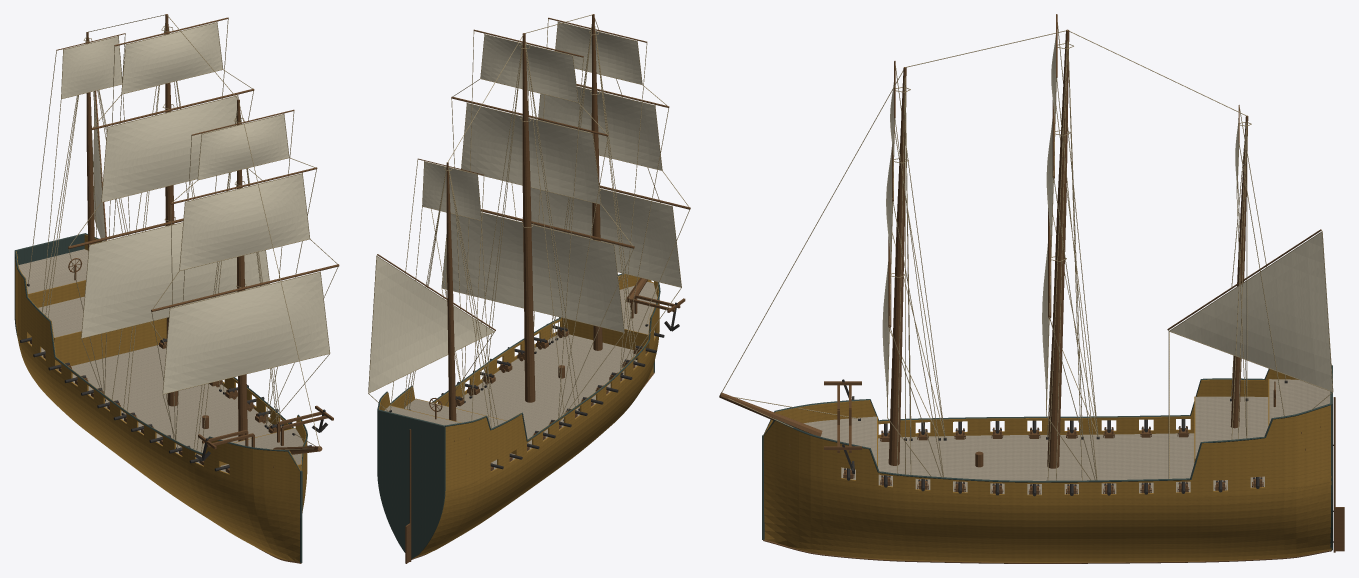
Rendered from ship.glb.
3 renders of one model, left to right at view 1: azimuth 30°, elevation 25°; view 2: azimuth 150°, elevation 25°; view 3: azimuth 270°, elevation 25°, orthographic. The views are drawn at different scales.
Visible parts, largest first — view 1: hull_shell_starboard, fore_square_00, main_square_00, main_deck, fore_square_01, main_square_01, main_square_02, fore_square_02, castle_bulkhead_1_1, mizzen_square_00, castle_deck_0, stern_closure (+12 smaller); view 2: hull_shell_starboard, main_square_00, main_square_01, main_deck, mizzen_lateen_01, stern_closure, fore_square_00, fore_square_01, main_square_02, fore_square_02, main, mizzen_square_00 (+17 smaller); view 3: hull_shell_port, main_deck, mizzen_lateen_01, hull_shell_starboard, main, fore, castle_deck_1, castle_deck_0, gunwale_port, mizzen, castle_deck_2, keel (+2 smaller).
Part boxes in pixels (left/top/right/bottom): hull_shell_starboard: left=15, top=251, right=300, bottom=561; fore_square_00: left=163, top=272, right=329, bottom=393; main_square_00: left=81, top=222, right=269, bottom=337; main_deck: left=29, top=342, right=272, bottom=472; fore_square_01: left=180, top=174, right=309, bottom=270; main_square_01: left=102, top=96, right=240, bottom=201; main_square_02: left=122, top=23, right=222, bottom=93; fore_square_02: left=198, top=114, right=288, bottom=179; castle_bulkhead_1_1: left=54, top=318, right=166, bottom=369; mizzen_square_00: left=61, top=37, right=122, bottom=98; castle_deck_0: left=18, top=249, right=88, bottom=293; stern_closure: left=14, top=233, right=84, bottom=337; hull_shell_starboard: left=413, top=281, right=659, bottom=558; main_square_00: left=442, top=213, right=624, bottom=332; main_square_01: left=461, top=103, right=600, bottom=203; main_deck: left=456, top=330, right=654, bottom=469; mizzen_lateen_01: left=368, top=256, right=493, bottom=392; stern_closure: left=377, top=409, right=445, bottom=559; fore_square_00: left=530, top=188, right=681, bottom=286; fore_square_01: left=538, top=87, right=661, bottom=170; main_square_02: left=481, top=35, right=577, bottom=102; fore_square_02: left=555, top=22, right=641, bottom=84; main: left=522, top=33, right=535, bottom=402; mizzen_square_00: left=422, top=162, right=480, bottom=220; hull_shell_port: left=763, top=405, right=1331, bottom=562; main_deck: left=841, top=433, right=1264, bottom=494; mizzen_lateen_01: left=1170, top=232, right=1332, bottom=391; hull_shell_starboard: left=763, top=369, right=1298, bottom=438; main: left=1047, top=29, right=1069, bottom=468; fore: left=888, top=67, right=906, bottom=465; castle_deck_1: left=1195, top=396, right=1268, bottom=458; castle_deck_0: left=1269, top=379, right=1330, bottom=423; gunwale_port: left=763, top=403, right=1331, bottom=482; mizzen: left=1230, top=115, right=1248, bottom=428; castle_deck_2: left=803, top=416, right=876, bottom=464; keel: left=763, top=539, right=1331, bottom=563.
Bounding box in the file's own units: 19.09 × 40.42 × 42.94.
7 materials, 7 textured.
